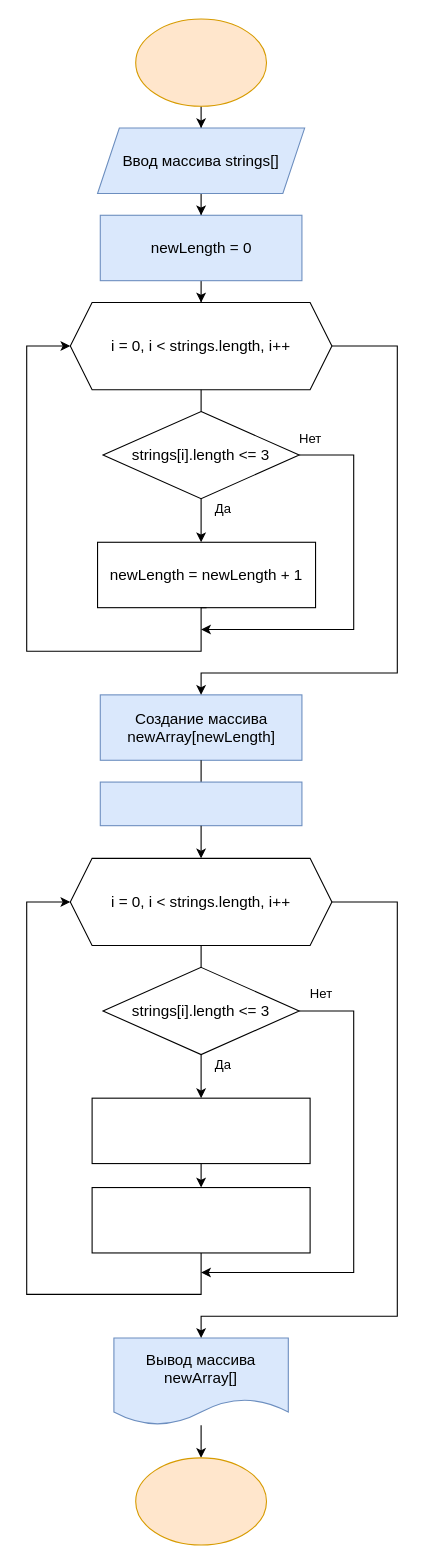
Some shapes in this 425 by 1564 pixel diagram are drawn without their labels. Here are the shapes that lost their labels. From the top down, the centre of each, then its label:
At point 201,62: "Начало".
At point 200,803: "j = 0".
At point 200,1130: "newArray[j] = strings[i]".
At point 200,1219: "j = j + 1".
At point 201,1501: "Конец".
